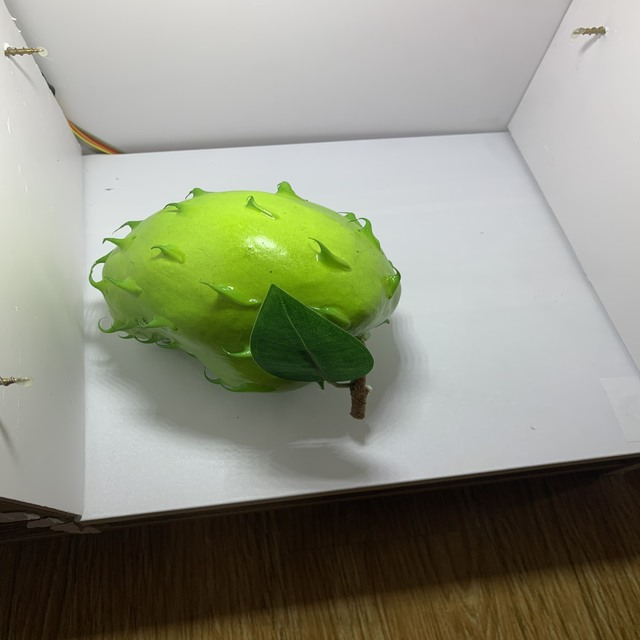Man cau: (84, 177, 411, 404)
